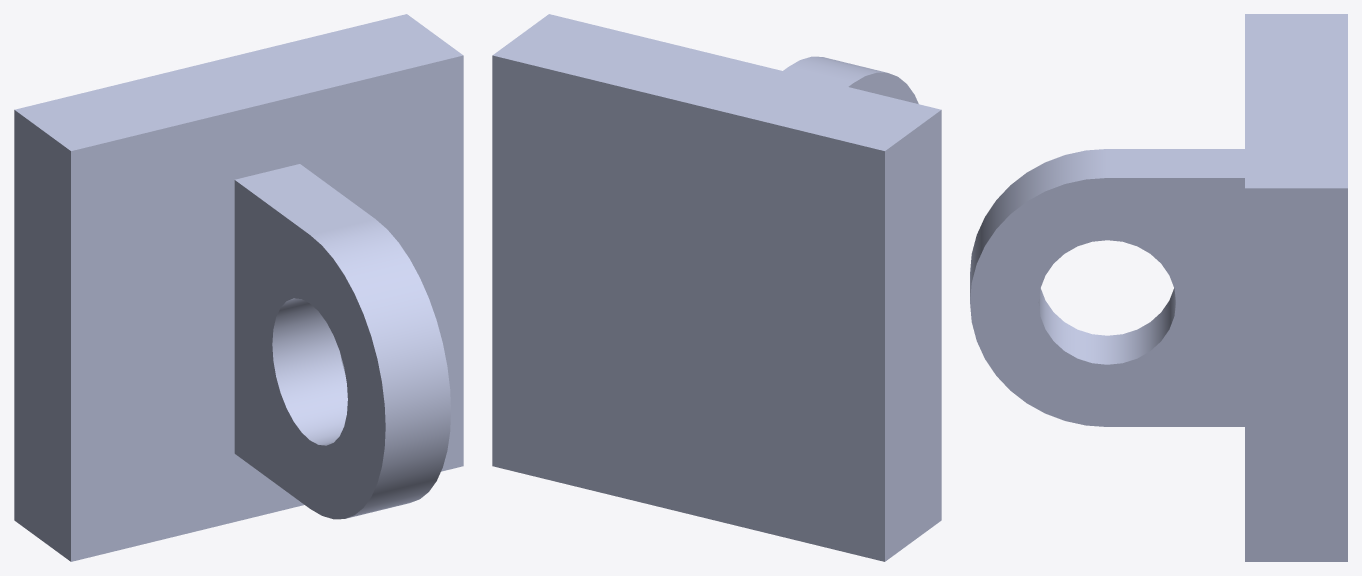
File: support.obj
The picture shows the model from 3 angles, left to right: view 1: azimuth 30°, elevation 25°; view 2: azimuth 150°, elevation 25°; view 3: azimuth 270°, elevation 25°; orthographic projection. The views are drawn at different scales.
Parts seen in each view (by area): view 1: mesh 1 support; view 2: mesh 1 support; view 3: mesh 1 support.
Boxes of the visible parts, <box> form: mesh 1 support: <box>14,14,463,561</box>; mesh 1 support: <box>492,14,941,561</box>; mesh 1 support: <box>970,14,1347,561</box>.
Bounding box in the file's own units: 0.06 × 0.06 × 0.055.
